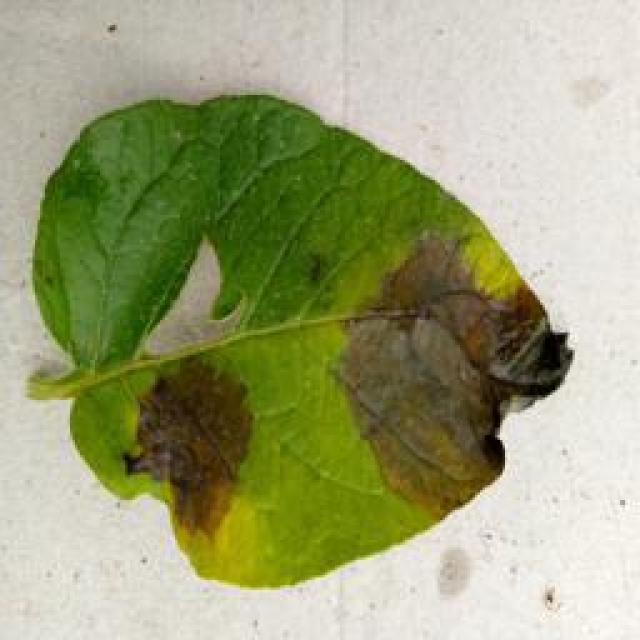late_blight: (23, 88, 575, 592)
